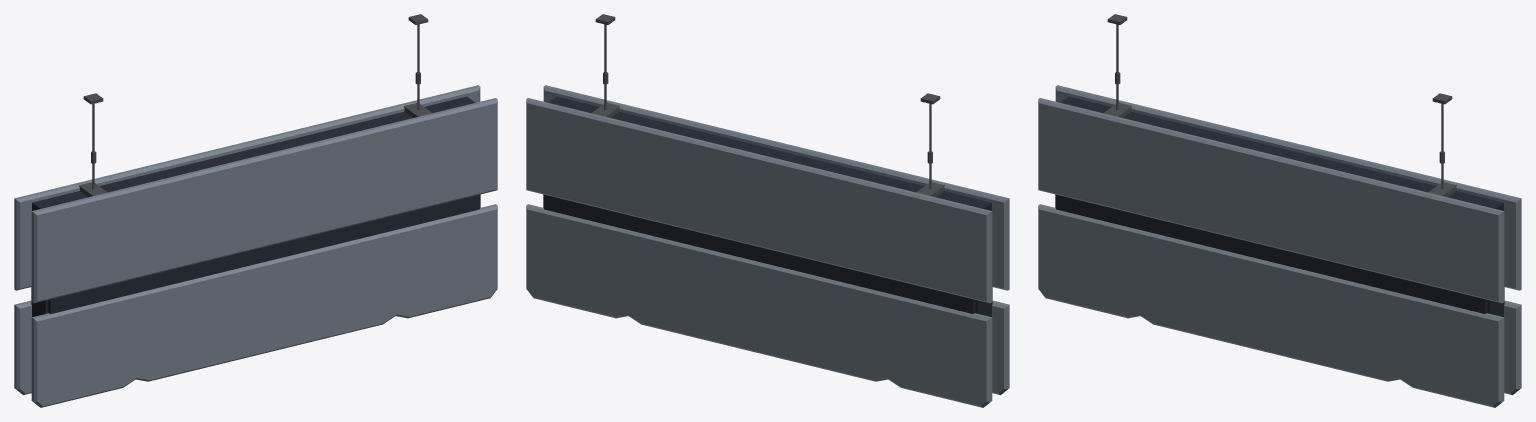
File: acoustic-ceiling-baffle-fa3c11.glb
3 renders of one model, left to right at view 1: azimuth 30°, elevation 25°; view 2: azimuth 150°, elevation 25°; view 3: azimuth 330°, elevation 25°, orthographic.
Parts seen in each view (by area): view 1: acoustic-ceiling-baffle; view 2: acoustic-ceiling-baffle; view 3: acoustic-ceiling-baffle.
Part boxes in pixels (box(x1,y1,x2,y2)): acoustic-ceiling-baffle: box(14, 14, 497, 407); acoustic-ceiling-baffle: box(526, 14, 1009, 407); acoustic-ceiling-baffle: box(1038, 14, 1521, 407).
Bounding box in the file's own units: 1.6 × 0.95 × 0.131.
